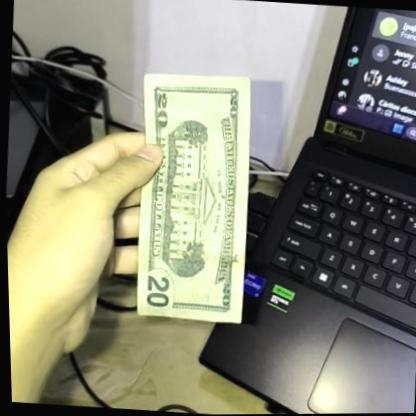dollar_back: (126, 70, 263, 328)
